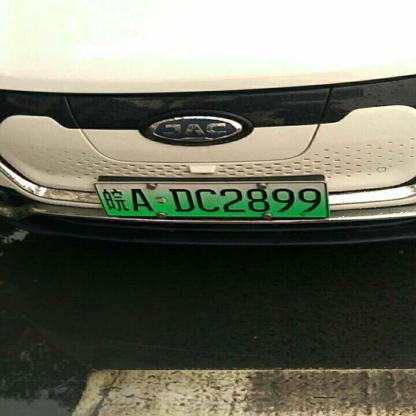lp: (94, 181, 328, 216)
